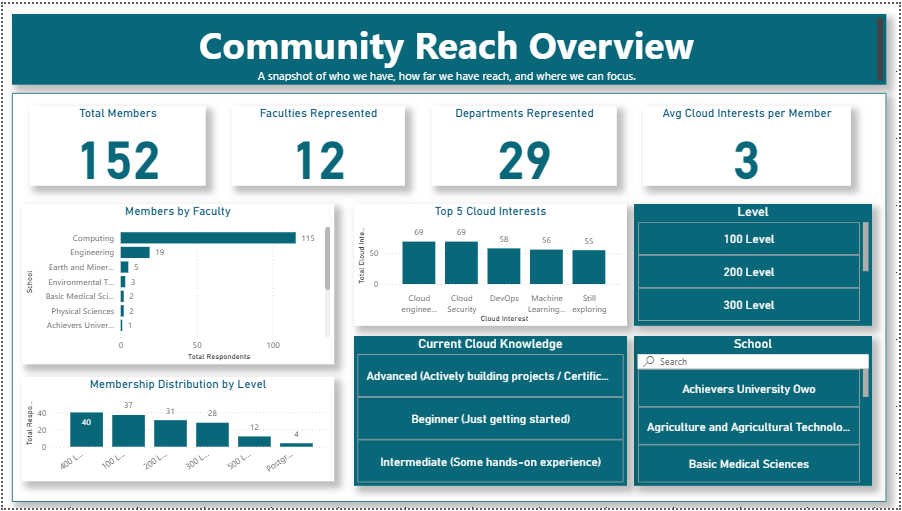

What the dashboard file says about the page in this screenshot:
{"tool":"powerbi","page":{"name":"Overview","canvas":[1280,720],"ordinal":1},"visuals":[{"type":"textbox","box":[12.9,14.3,1248.6,101.4],"z":0},{"type":"textbox","box":[12.7,126.6,1249.1,583.7],"z":1000},{"type":"card","title":"Faculties Represented","fields":{"Values":["Respondents.Total Schools"]},"box":[327.6,145.7,247.1,114.3],"z":2000},{"type":"card","title":"Total Members","fields":{"Values":["Respondents.Total Respondents"]},"box":[38.6,145.7,251.4,114.3],"z":3000},{"type":"card","title":"Departments Represented","fields":{"Values":["Respondents.Total Departments"]},"box":[612.4,145.7,264.3,114.3],"z":4000},{"type":"card","title":"Avg Cloud Interests per Member","fields":{"Values":["Respondents.Avg Interests per Respondent"]},"box":[914.3,145.7,297.1,114.3],"z":5000},{"type":"clusteredBarChart","title":"Members by Faculty","fields":{"Category":["Respondents.School"],"Y":["Respondents.Total Respondents"]},"box":[27.1,285.7,445.7,228.6],"z":6000},{"type":"columnChart","title":"Membership Distribution by Level","fields":{"Category":["Respondents.Level"],"Y":["Respondents.Total Respondents"]},"box":[27.1,532.9,445.7,148.6],"z":7000},{"type":"columnChart","title":"Top 5 Cloud Interests","fields":{"Category":["Cloud Interests.Cloud Interest"],"Y":["Cloud Interests.Total Cloud Interests"]},"box":[501.4,285.7,390,174.3],"z":8000},{"type":"advancedSlicerVisual","fields":{"Values":["Respondents.Level"]},"box":[901.4,285.7,340,174.3],"z":9000},{"type":"advancedSlicerVisual","fields":{"Values":["Respondents.School"]},"box":[901.4,474.3,340,214.3],"z":10000},{"type":"advancedSlicerVisual","fields":{"Values":["Respondents.Current Cloud Knowledge"]},"box":[501.4,474.3,390,214.3],"z":11000}]}

Visuals, with their boxes in screenshot pixels (x1, y1, x2, y2), scaled from the page's 1280x720 canvas onto the 902x511 screenshot:
textbox: x1=9, y1=10, x2=889, y2=82
textbox: x1=9, y1=90, x2=889, y2=504
"Faculties Represented" card: x1=231, y1=103, x2=405, y2=185
"Total Members" card: x1=27, y1=103, x2=204, y2=185
"Departments Represented" card: x1=432, y1=103, x2=618, y2=185
"Avg Cloud Interests per Member" card: x1=644, y1=103, x2=854, y2=185
"Members by Faculty" clusteredBarChart: x1=19, y1=203, x2=333, y2=365
"Membership Distribution by Level" columnChart: x1=19, y1=378, x2=333, y2=484
"Top 5 Cloud Interests" columnChart: x1=353, y1=203, x2=628, y2=326
advancedSlicerVisual - Respondents.Level: x1=635, y1=203, x2=875, y2=326
advancedSlicerVisual - Respondents.School: x1=635, y1=337, x2=875, y2=489
advancedSlicerVisual - Respondents.Current Cloud Knowledge: x1=353, y1=337, x2=628, y2=489
